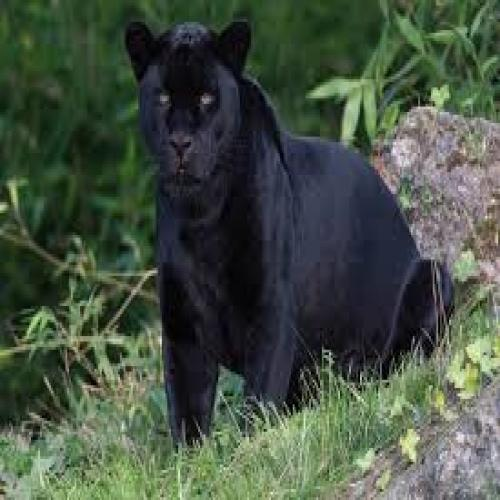panther-endangered: (122, 14, 450, 446)
